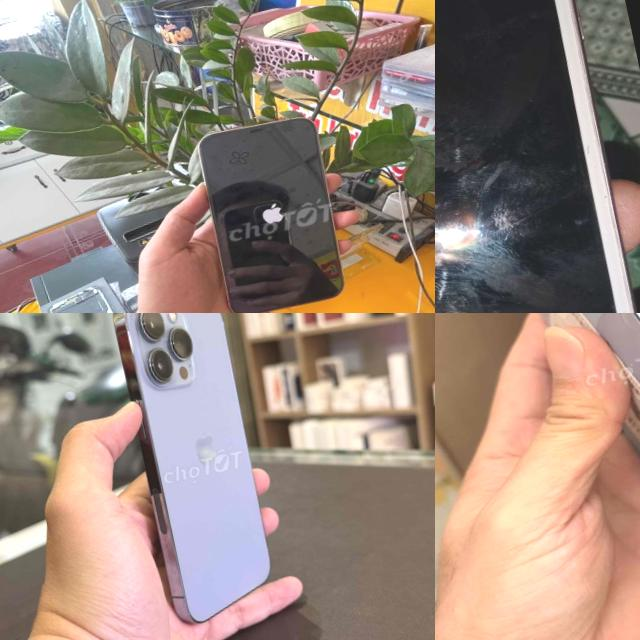gen_12_13: (100, 313, 288, 625), (184, 103, 357, 313)
gen_14: (457, 313, 640, 640)
gen_6: (435, 0, 640, 313)
